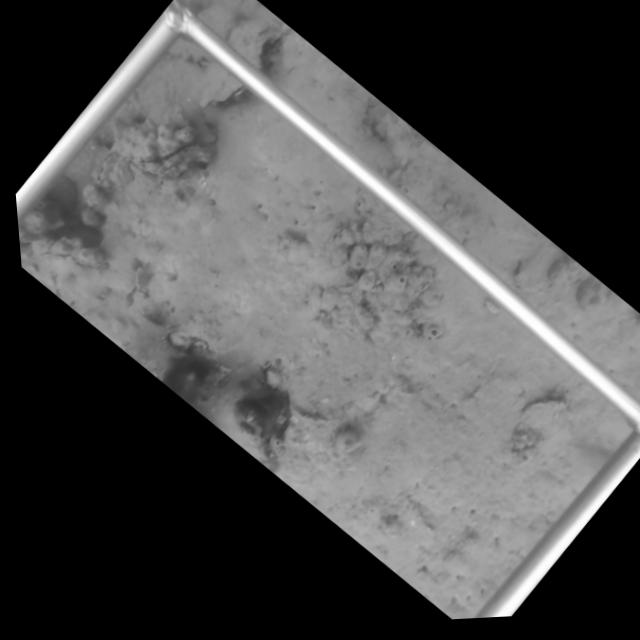Oyster-Closed: (113, 93, 218, 180)
Oyster-Indeterminate: (520, 400, 570, 433)
